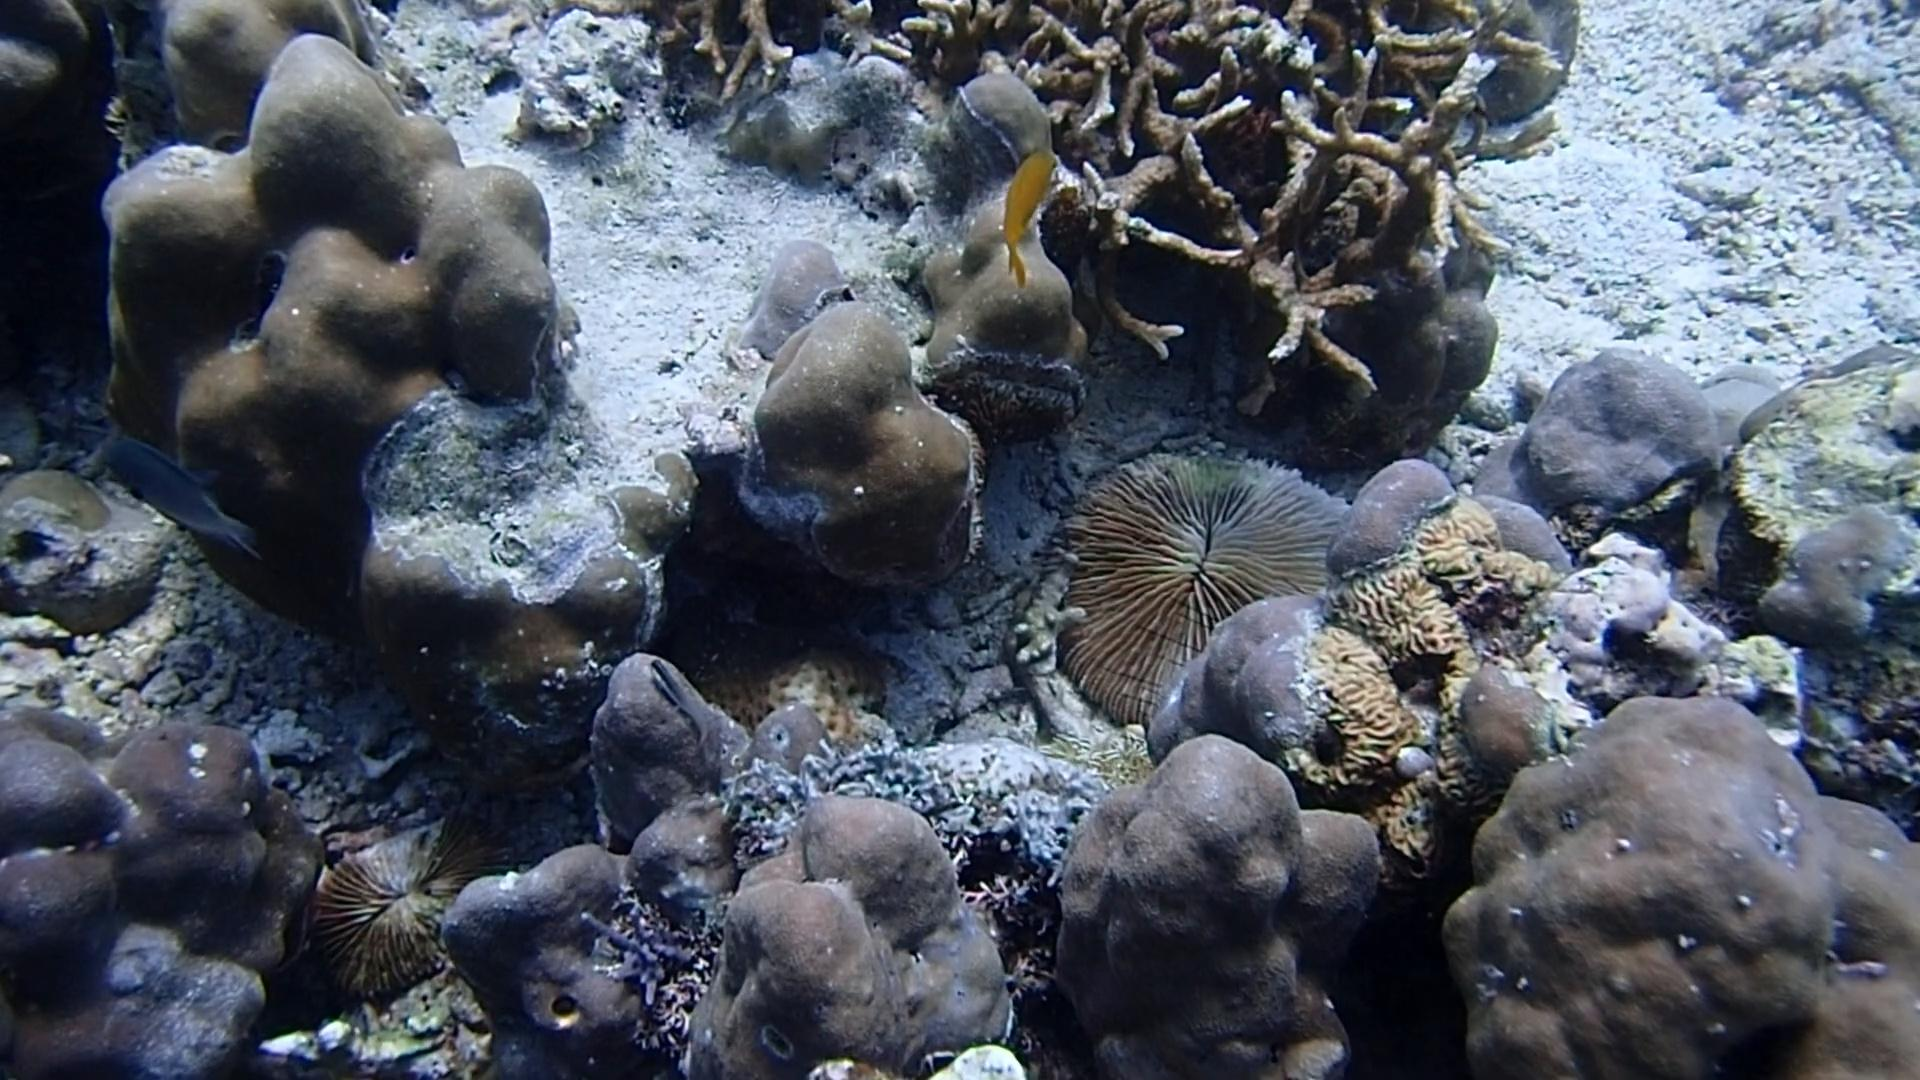Blue Fish Two: (84, 418, 269, 567)
Yellow Fish: (986, 141, 1071, 291)
